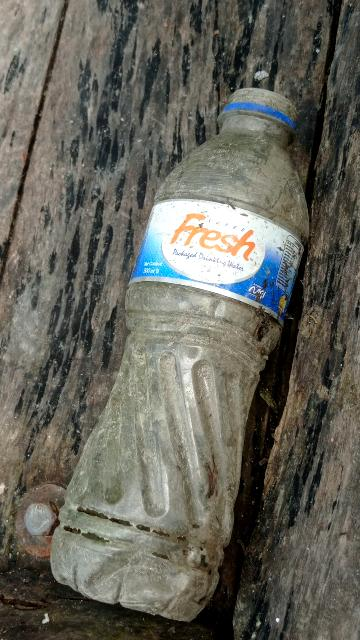bottle: (44, 66, 343, 627)
